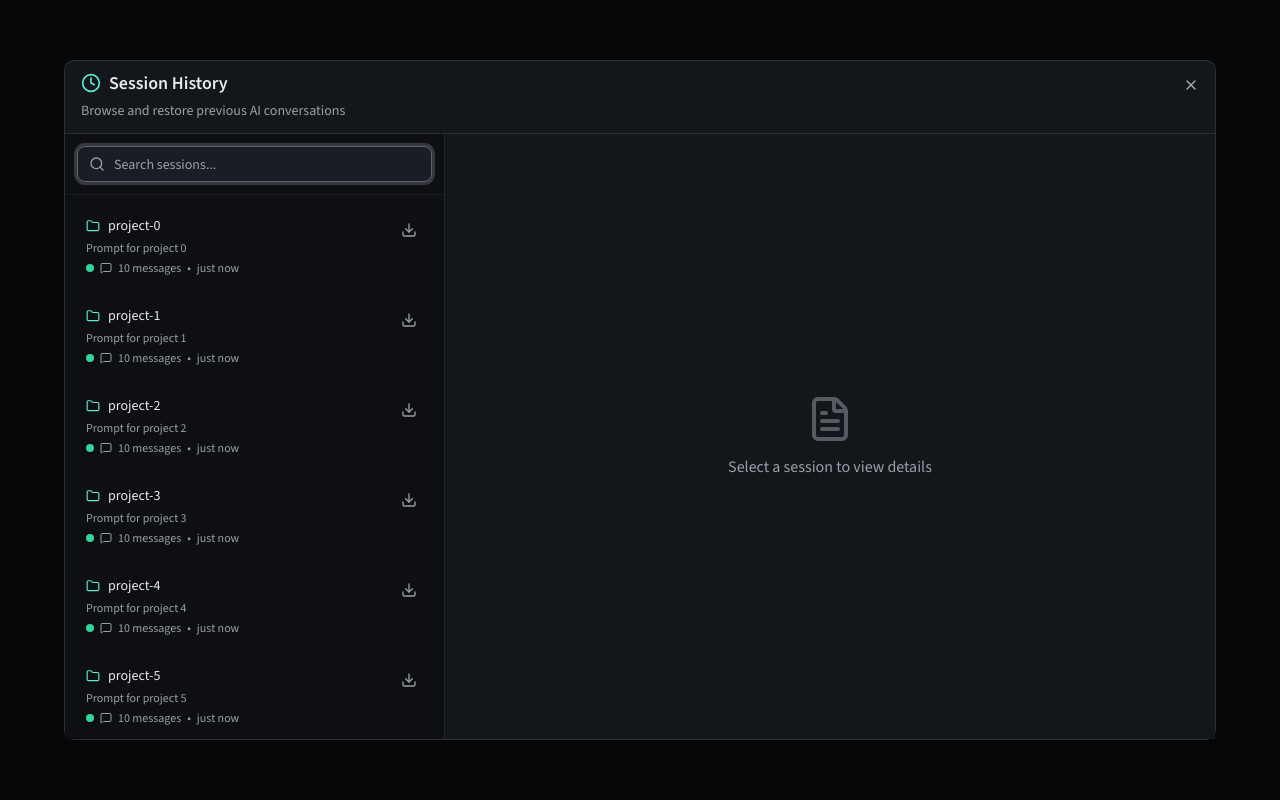
SessionBrowser › search filtering › should use deferred value for search to avoid blocking UI
Expected: the text "project-0" is shown, [108, 216, 160, 236]
Note: Type a search query
In the field with placeholder "Search sessions...": (254, 164) [77, 146, 432, 182], type "project-19"
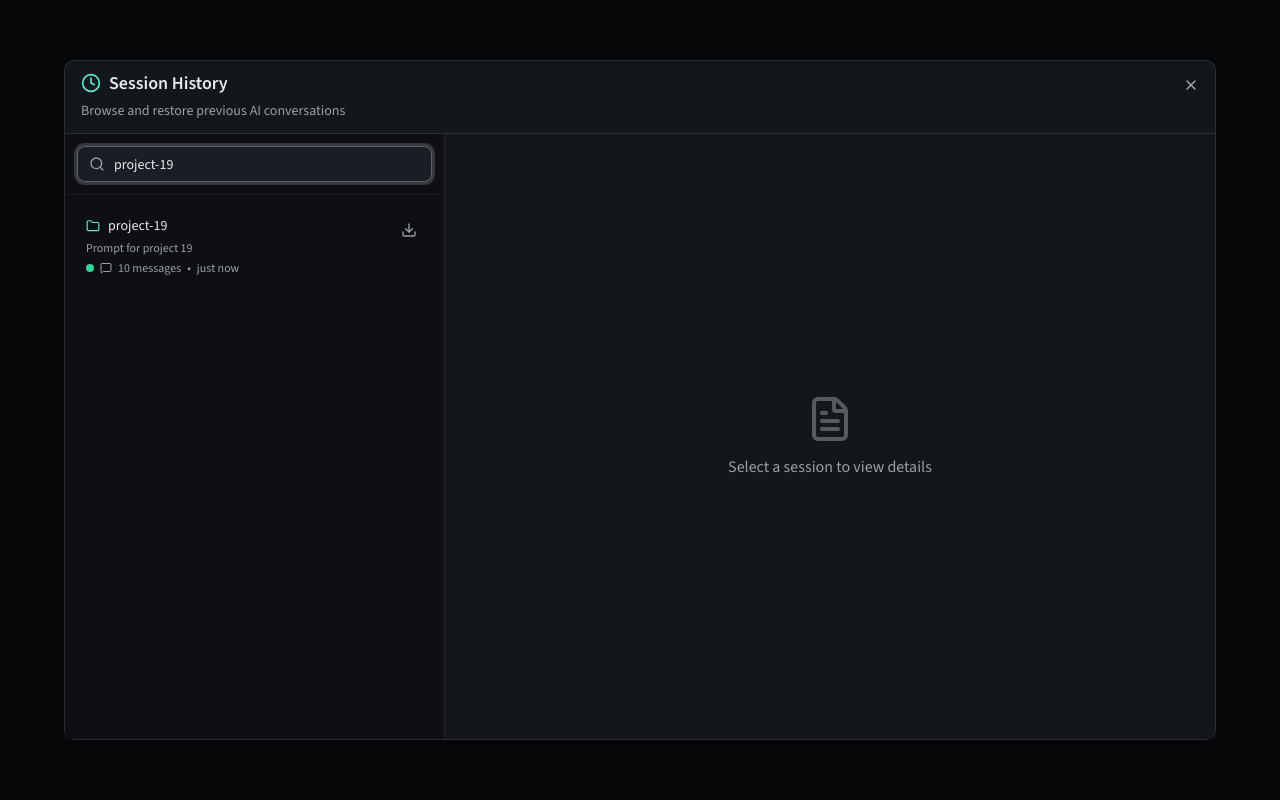
Now the text "project-19" is shown, box [108, 216, 167, 236]
Now the button "project-0" is gone
